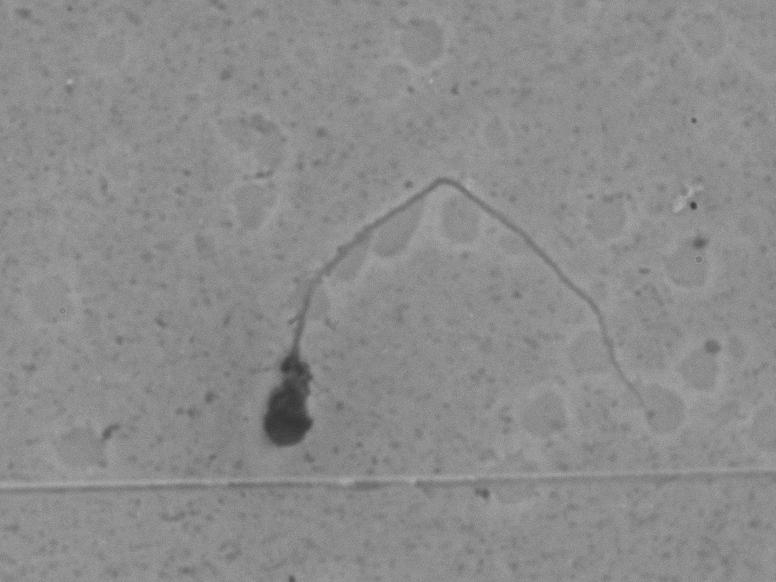Abnormal: (223, 140, 680, 472)
